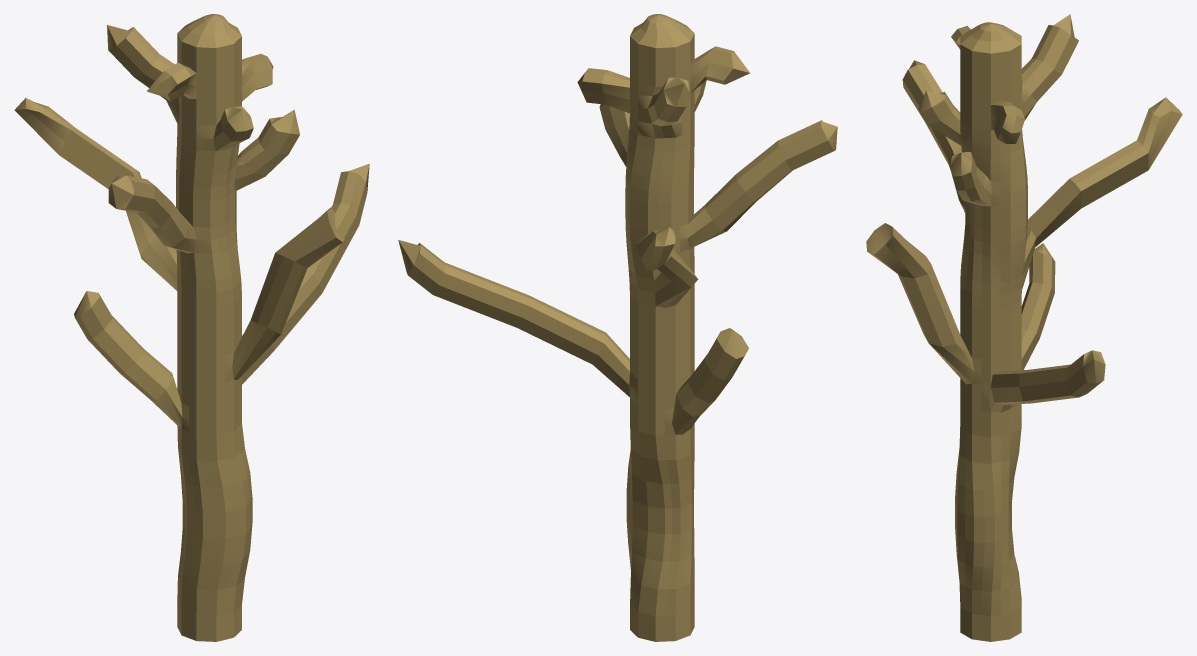
File: DeadTree.fbx
3 renders of one model, left to right at view 1: azimuth 30°, elevation 25°; view 2: azimuth 150°, elevation 25°; view 3: azimuth 270°, elevation 25°, orthographic.
Parts seen in each view (by area): view 1: group3; view 2: group3; view 3: group3.
Part boxes in pixels (x1,y1,x2,y2): group3: (14, 14, 369, 641); group3: (398, 14, 837, 641); group3: (866, 14, 1182, 641).
Size of the model in its own units: 12.38 by 20.77 by 9.82.
